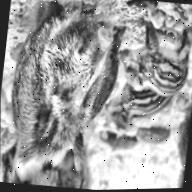boar: (0, 0, 128, 190)
